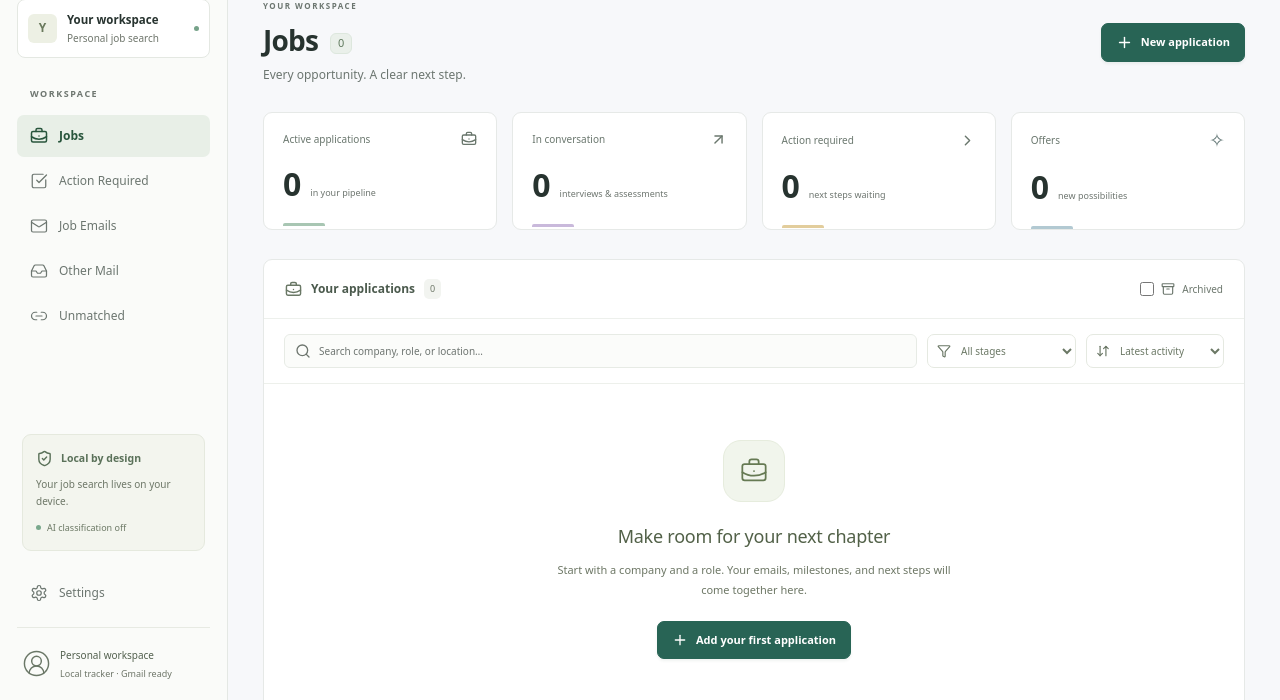
Scenario: Gemini integration UI › allows a fictional connection test while AI is off
This screenshot has width=1280, height=700.
Click the button "Settings": click(114, 592) [17,572,210,614]
(page scrolled)
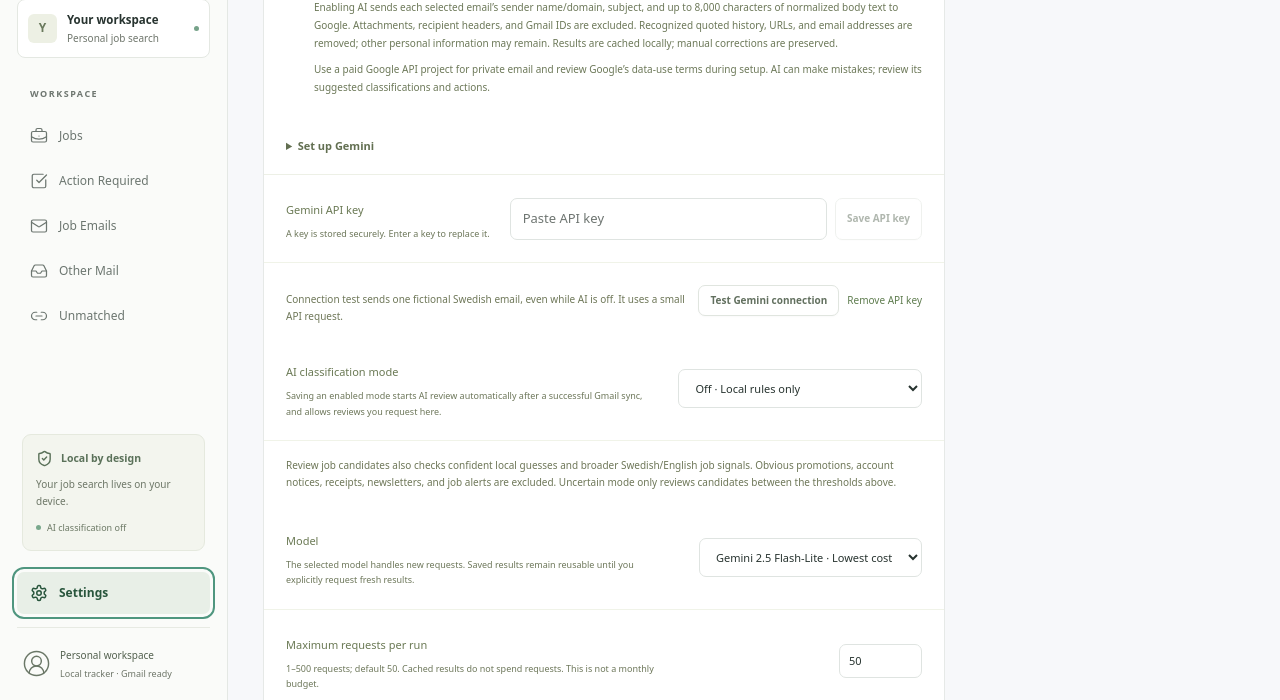
Click the button "Test Gemini connection": click(769, 300) [698,285,839,316]
(page scrolled)
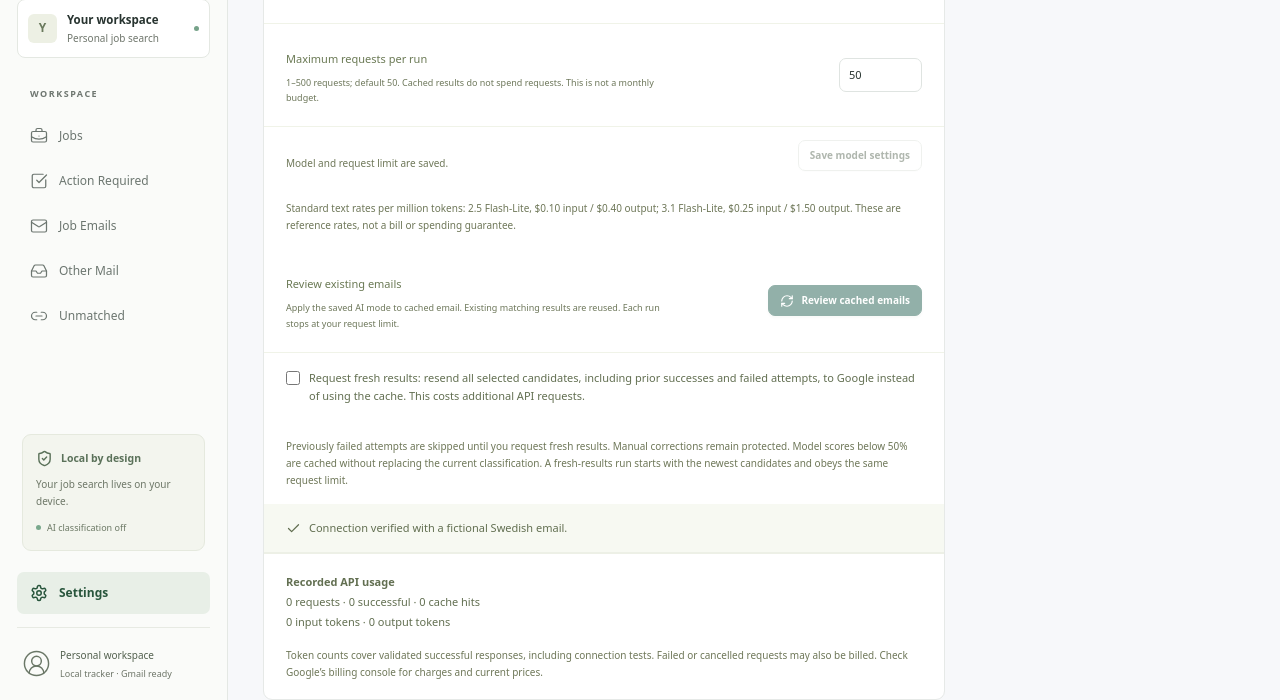
Now the button "Review cached emails" is disabled, box [768,285,922,316]
Now the text "Connection verified with a fictional Swedish email." is shown, box [264,504,944,553]
